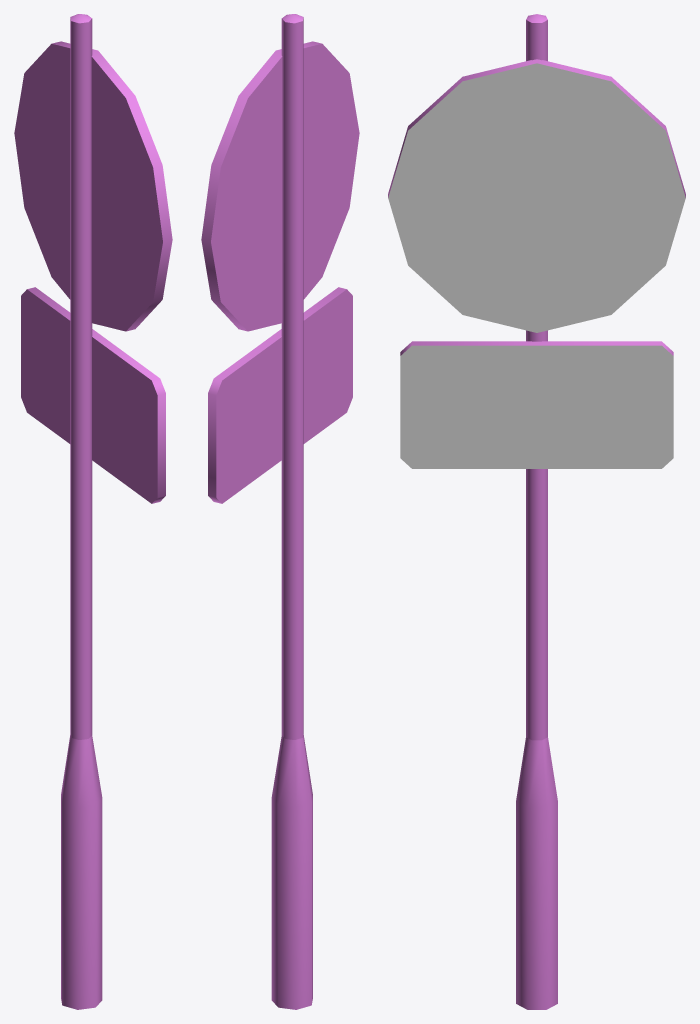
File: Street sign.fbx
The picture shows the model from 3 angles, left to right: view 1: azimuth 30°, elevation 25°; view 2: azimuth 150°, elevation 25°; view 3: azimuth 270°, elevation 25°; orthographic projection.
Visible parts, largest first — view 1: Sign post; view 2: Sign post; view 3: Sign post.
Boxes of the visible parts, x1,y1,x2,y2 form: Sign post: (14,14,172,1009); Sign post: (201,14,359,1009); Sign post: (388,14,685,1009).
Bounding box in the file's own units: 16.49 × 432 × 118.
